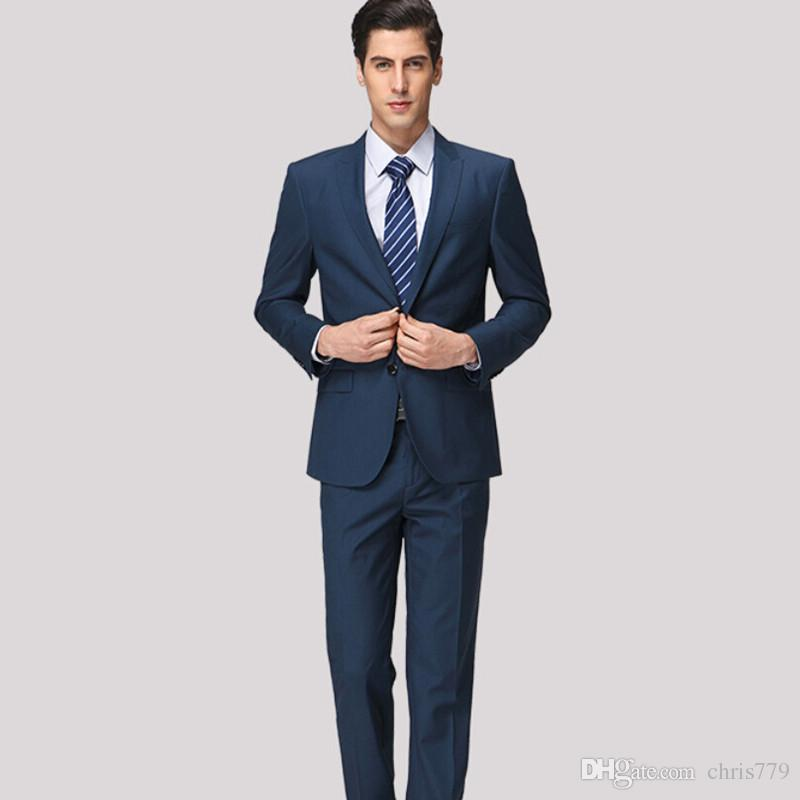F_M_suit jacket: (251, 133, 556, 491)
F_shirt: (359, 113, 436, 269)
F_tie: (383, 161, 420, 293)
